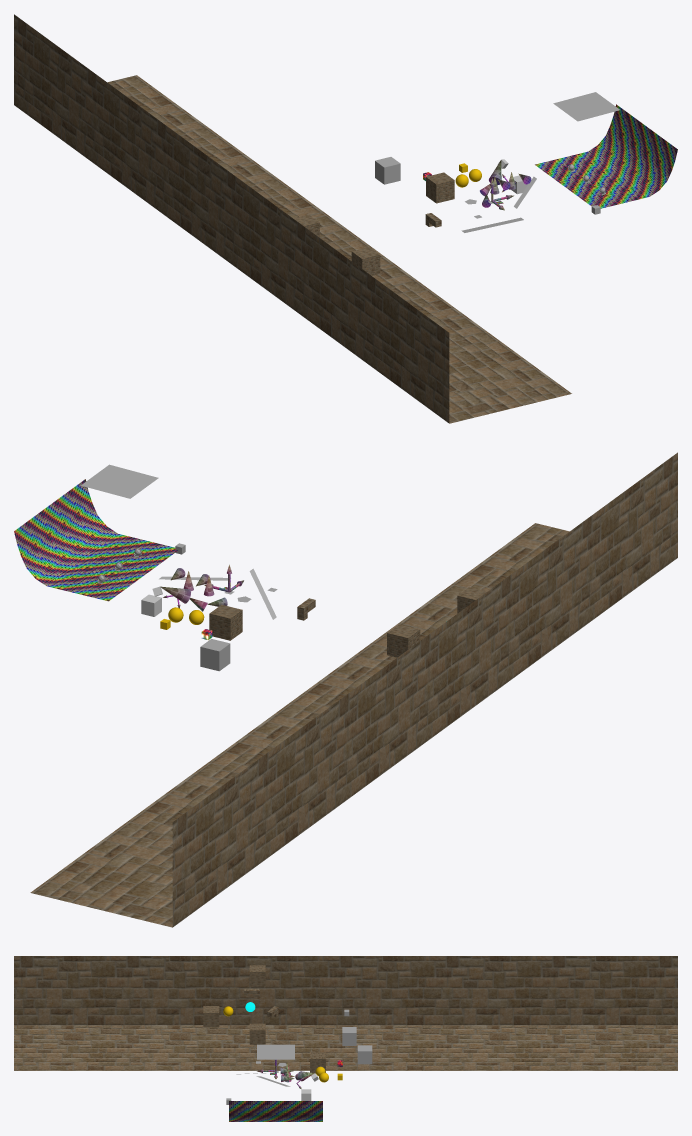
Rendered from simpleCube.fbx.
The picture shows the model from 3 angles, top to bottom: view 1: azimuth 30°, elevation 25°; view 2: azimuth 150°, elevation 25°; view 3: azimuth 270°, elevation 25°; orthographic projection. The views are drawn at different scales.
Parts seen in each view (by area): view 1: wall_floor, BackGroundMat, Material, pCube5, pCube10, pCube8; view 2: wall_floor, BackGroundMat, Material, pCube5, pCube8, pCube10; view 3: wall_floor, BackGroundMat, Material, pCube13, pCube10, pCube11, pCube8, pCube5, pCube6.
Part boxes in pixels (bbox=[...]): wall_floor: bbox=[14, 14, 571, 423]; BackGroundMat: bbox=[535, 104, 677, 208]; Material: bbox=[553, 92, 619, 121]; pCube5: bbox=[426, 172, 454, 203]; pCube10: bbox=[351, 247, 380, 275]; pCube8: bbox=[375, 157, 400, 184]; wall_floor: bbox=[30, 452, 677, 927]; BackGroundMat: bbox=[14, 479, 177, 601]; Material: bbox=[81, 464, 158, 498]; pCube5: bbox=[209, 604, 242, 640]; pCube8: bbox=[200, 639, 230, 671]; pCube10: bbox=[387, 624, 420, 657]; wall_floor: bbox=[14, 956, 677, 1070]; BackGroundMat: bbox=[229, 1101, 322, 1121]; Material: bbox=[257, 1044, 294, 1059]; pCube13: bbox=[249, 965, 265, 986]; pCube10: bbox=[249, 1023, 265, 1044]; pCube11: bbox=[203, 1006, 219, 1027]; pCube8: bbox=[357, 1045, 372, 1064]; pCube5: bbox=[310, 1052, 325, 1073]; pCube6: bbox=[342, 1027, 356, 1045].
Size of the model in its own units: 64.75 by 19.48 by 132.
